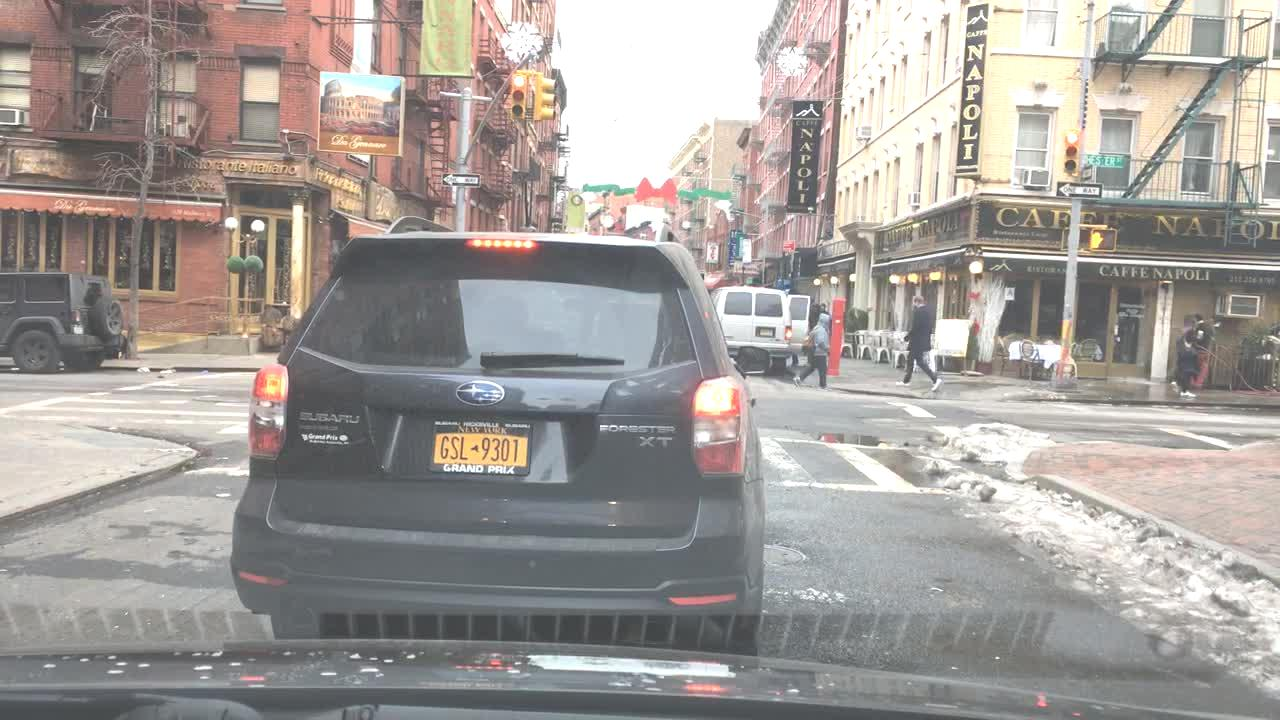subaru: (450, 379, 508, 413)
